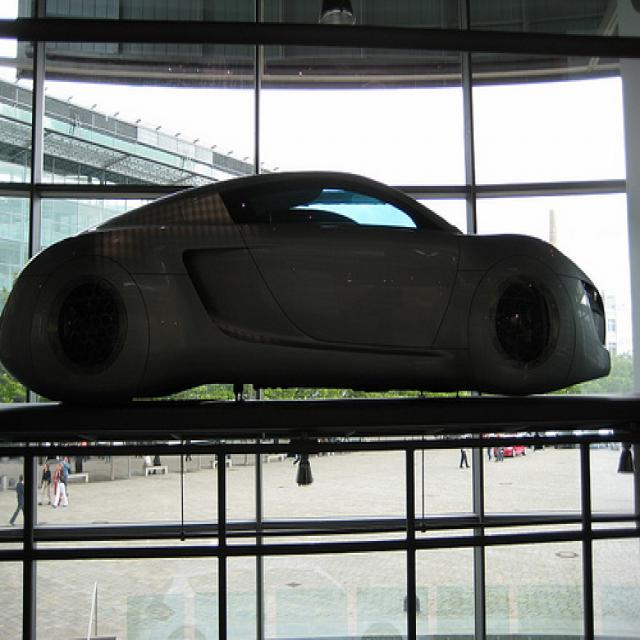Car: (0, 166, 613, 407)
